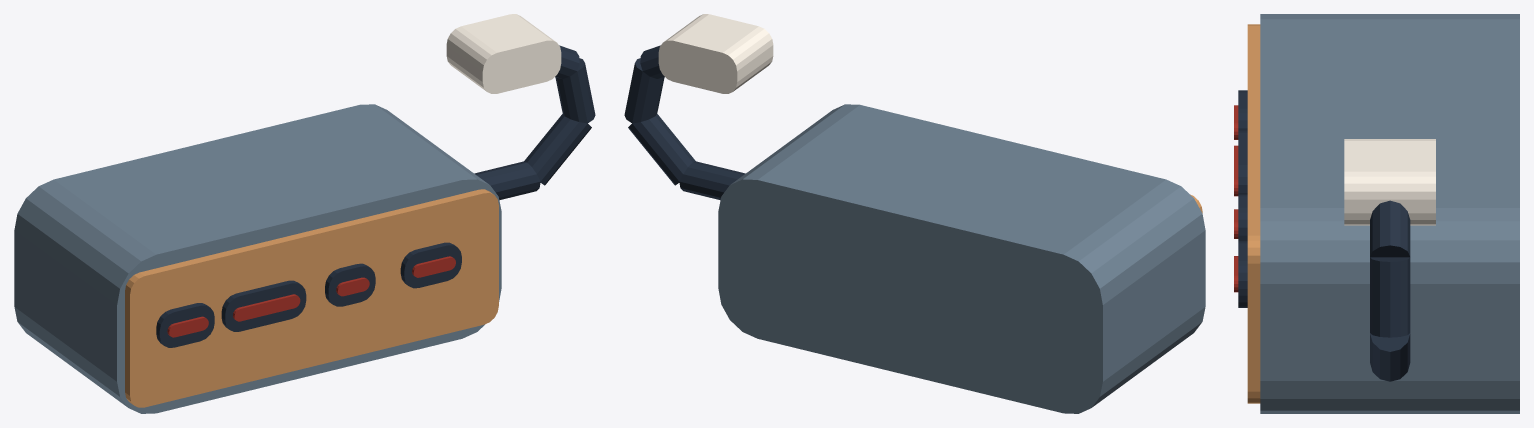
Rendered from adapterhub.glb.
3 renders of one model, left to right at view 1: azimuth 30°, elevation 25°; view 2: azimuth 150°, elevation 25°; view 3: azimuth 270°, elevation 25°, orthographic. The views are drawn at different scales.
Parts seen in each view (by area): view 1: shell, face, plug, port 1, cable1, port 3, cable2, cable0, port 0, port 2, port tongue 1, port tongue 3 (+2 smaller); view 2: shell, plug, cable1, cable2, cable0, cable3; view 3: shell, plug, face, cable2, cable3, cable1, port 3, port 1, port 2, port 0.
Boxes of the visible parts, x1,y1,x2,y2 form: shell: [14, 104, 501, 413]; face: [125, 189, 498, 407]; plug: [446, 14, 561, 93]; port 1: [221, 280, 306, 331]; cable1: [524, 114, 591, 185]; port 3: [400, 242, 461, 288]; cable2: [555, 58, 595, 123]; cable0: [474, 161, 540, 200]; port 0: [156, 303, 214, 347]; port 2: [325, 263, 375, 306]; port tongue 1: [233, 294, 300, 321]; port tongue 3: [412, 256, 455, 277]; shell: [718, 104, 1205, 413]; plug: [658, 14, 773, 93]; cable1: [628, 114, 695, 185]; cable2: [624, 58, 664, 123]; cable0: [679, 161, 745, 200]; cable3: [640, 45, 664, 78]; shell: [1260, 14, 1519, 413]; plug: [1344, 139, 1435, 225]; face: [1247, 24, 1260, 403]; cable2: [1370, 257, 1410, 337]; cable3: [1370, 200, 1410, 257]; cable1: [1370, 333, 1410, 381]; port 3: [1238, 241, 1247, 307]; port 1: [1238, 130, 1247, 194]; port 2: [1238, 194, 1247, 241]; port 0: [1238, 90, 1247, 130].
Bounding box in the file's own units: 2.02 × 0.895 × 0.749.
